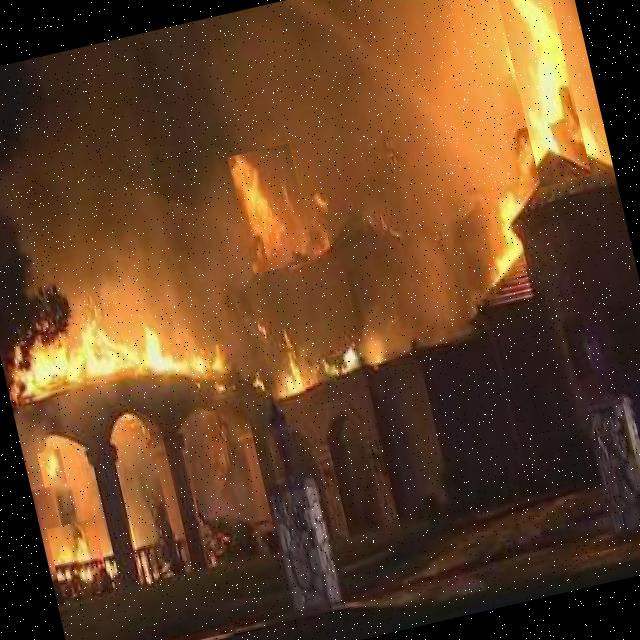fire: (0, 287, 254, 425), (492, 0, 591, 187), (227, 142, 315, 274), (474, 171, 542, 276), (46, 518, 110, 599), (264, 347, 308, 405), (37, 448, 67, 487)
